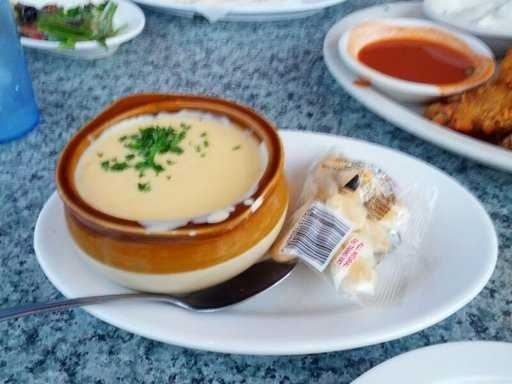soup: (73, 103, 262, 227)
